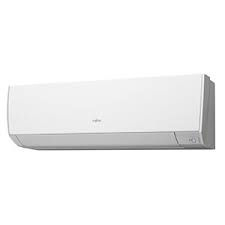ac: (3, 68, 220, 156)
